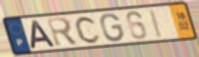6: (125, 10, 149, 41)
A: (29, 19, 58, 50)
C: (74, 15, 102, 45)
G: (99, 12, 126, 43)
I: (149, 8, 164, 40)
R: (46, 16, 81, 49)
